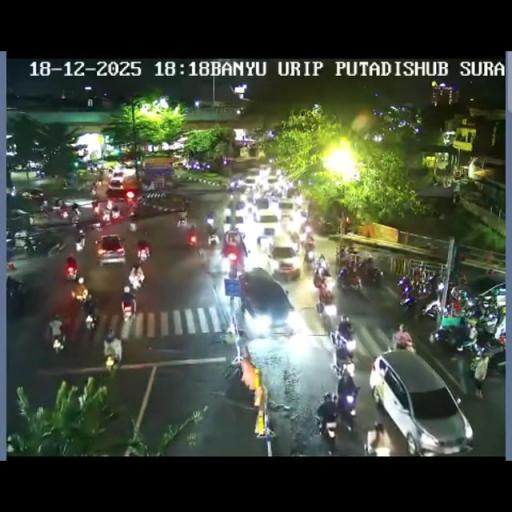Car: (370, 349, 471, 452), (238, 268, 298, 334), (266, 238, 300, 279), (96, 232, 126, 266), (227, 199, 249, 226), (257, 206, 280, 228), (107, 170, 125, 192), (258, 226, 276, 244), (279, 198, 295, 218), (20, 188, 46, 200), (244, 175, 258, 190), (266, 174, 280, 186), (258, 164, 270, 178), (122, 158, 136, 168), (172, 159, 187, 168)
Motorcycle: (45, 282, 99, 354), (400, 273, 438, 314), (432, 315, 474, 351), (335, 376, 359, 426), (472, 322, 504, 355), (316, 407, 338, 448), (334, 316, 355, 358), (315, 290, 338, 328), (336, 265, 362, 294), (330, 351, 354, 382), (363, 427, 387, 455), (358, 262, 383, 288), (207, 246, 226, 278), (222, 354, 242, 380), (368, 358, 382, 393), (448, 283, 470, 305), (225, 252, 241, 282), (104, 348, 121, 374), (392, 336, 416, 354), (120, 294, 136, 320), (128, 264, 144, 290), (336, 247, 354, 270), (71, 278, 88, 302), (480, 292, 498, 314), (50, 330, 66, 354), (314, 254, 330, 278), (315, 217, 336, 234), (47, 239, 66, 257), (84, 309, 98, 332), (194, 236, 206, 262), (299, 220, 313, 242), (64, 259, 78, 280), (451, 268, 467, 286), (206, 226, 220, 246), (136, 244, 150, 263), (24, 236, 38, 255), (303, 244, 315, 266), (126, 194, 138, 214), (6, 237, 16, 259), (74, 234, 86, 252), (288, 229, 299, 248), (87, 220, 103, 233), (56, 205, 70, 219), (97, 168, 109, 184), (92, 200, 102, 218), (176, 213, 187, 228), (292, 193, 303, 208), (182, 198, 191, 216), (101, 206, 111, 222), (228, 178, 239, 192), (413, 264, 423, 279), (205, 211, 214, 227), (70, 210, 80, 224), (39, 200, 49, 213), (128, 218, 137, 232), (90, 186, 98, 200), (34, 168, 45, 178), (111, 206, 120, 218), (452, 191, 460, 204), (8, 185, 16, 197), (87, 164, 96, 174), (299, 210, 307, 220), (54, 198, 62, 207), (106, 200, 112, 210)
